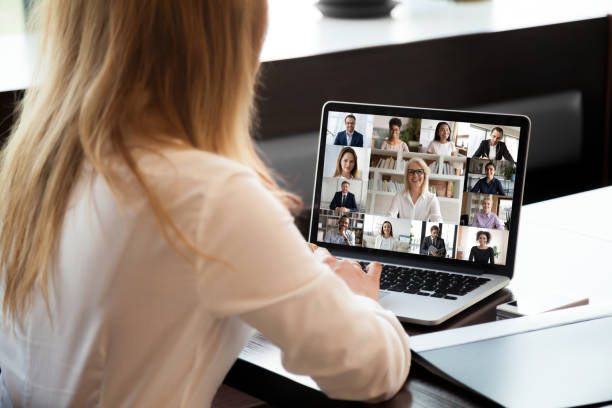without mask: (400, 164, 429, 195), (430, 121, 458, 143), (332, 153, 359, 174), (339, 111, 361, 133), (377, 214, 396, 237), (336, 210, 355, 233), (473, 231, 493, 249), (385, 122, 403, 141), (476, 197, 495, 214), (481, 164, 500, 181), (488, 128, 507, 145), (428, 223, 442, 241), (338, 180, 354, 195)
